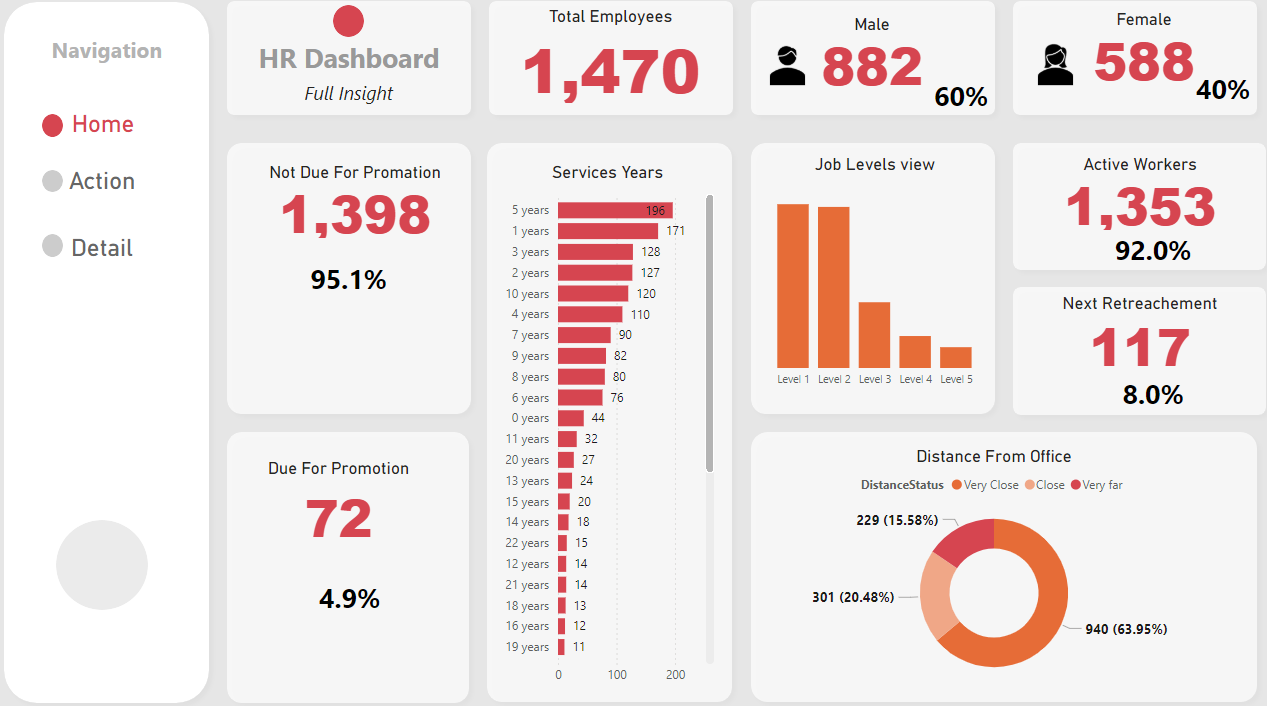

The page's visual inventory and layout, read from the dashboard file:
{"tool":"powerbi","page":{"name":"Home","canvas":[1280,720],"ordinal":0},"visuals":[{"type":"shape","box":[223,0,262,132],"z":0},{"type":"shape","box":[0,0.9,223,719],"z":0,"group":"g1"},{"type":"shape","box":[485,0,262,132],"z":1000},{"type":"shape","box":[747,0,262,132],"z":2000},{"type":"shape","box":[1009,0,262,132],"z":3000},{"type":"shape","box":[483,142,263,577],"z":4000},{"type":"shape","box":[223.4,141.9,261.6,289.1],"z":5000},{"type":"shape","box":[222.6,430.9,260.7,289.1],"z":6000},{"type":"shape","box":[747,142,262,289],"z":7000},{"type":"shape","box":[1009,142,271,145],"z":8000},{"type":"shape","box":[746.7,431.1,524.4,287.8],"z":9000},{"type":"textbox","box":[223,42,262,48],"z":10000},{"type":"textbox","box":[282,83,143,38],"z":11000},{"type":"shape","box":[338,13,31,32],"z":12000},{"type":"group","id":"g1","title":"Group 2","box":[0,0.9,222.6,719.1],"z":13000},{"type":"textbox","box":[13,37.9,198,38],"z":13501,"group":"g1"},{"type":"card","title":"Male","fields":{"Values":["All Measures.Male"]},"box":[802.2,22.2,150,80],"z":14000},{"type":"card","title":"Female","fields":{"Values":["All Measures.Female"]},"box":[1061.1,16.7,175.6,81.1],"z":15000},{"type":"card","fields":{"Values":["All Measures.% Male"]},"box":[933.3,83.3,65.6,42.2],"z":16000},{"type":"card","fields":{"Values":["All Measures.% Female"]},"box":[1195.6,78.9,64.4,36.7],"z":17000},{"type":"card","title":"Total Employees","fields":{"Values":["All Measures.Total Emp"]},"box":[507.8,14.4,215.6,101.1],"z":18000},{"type":"image","box":[761.1,41.1,63.3,65.6],"z":19000},{"type":"image","box":[1028.9,41.1,63.3,65.6],"z":20000},{"type":"card","title":"Not Due For Promation","fields":{"Values":["All Measures.Not Due"]},"box":[240,170,240,81],"z":21000},{"type":"card","title":"Due For Promotion","fields":{"Values":["All Measures.Due For Promotion"]},"box":[240.3,465.5,206.6,97.5],"z":22000},{"type":"card","fields":{"Values":["All Measures.% Not Due"]},"box":[295.3,267.8,117,39.9],"z":23000},{"type":"card","fields":{"Values":["All Measures.% Due For Promotion"]},"box":[287.3,583.4,134.8,47],"z":24000},{"type":"barChart","title":" Services Years","fields":{"Category":["HR Analytics Data.ServiceYear"],"Y":["All Measures.Total Emp"]},"box":[501,170.2,222.6,531.1],"z":25000},{"type":"shape","box":[1009,286,271,146],"z":26000},{"type":"columnChart","title":"Job Levels view","fields":{"Y":["All Measures.Total Emp"],"Category":["HR Analytics Data.JobLevels"]},"box":[760.8,162.3,238.5,243],"z":27000},{"type":"card","title":"Next Retreachement","fields":{"Values":["All Measures.WillBeRetrenchment"]},"box":[1019,301,252,85],"z":28000},{"type":"card","fields":{"Values":["All Measures.% Will Be Rterenchment"]},"box":[1097,386,122,34],"z":29000},{"type":"card","title":"Active Workers","fields":{"Values":["All Measures.On Services"]},"box":[1019,162,252,81],"z":30000},{"type":"card","fields":{"Values":["All Measures.% On Services"]},"box":[1103,243,110,32],"z":31000},{"type":"donutChart","title":"Distance From Office","fields":{"Category":["HR Analytics Data.DistanceStatus"],"Y":["All Measures.Total Emp"]},"box":[761,454,476,247],"z":32000},{"type":"actionButton","title":"Home","box":[37.5,117.9,140.1,30.2],"z":33000},{"type":"actionButton","title":"Action","box":[37.4,174.9,139.8,56.7],"z":34000},{"type":"actionButton","title":"Detail","box":[37.4,242.1,139.8,58],"z":35000},{"type":"shape","box":[46.7,122.1,21.1,22.4],"z":36000},{"type":"shape","box":[46.7,177.5,21.1,22.4],"z":37000},{"type":"shape","box":[46.7,242.1,21.1,22.4],"z":38000},{"type":"shape","box":[61.2,528.3,92.3,89.7],"z":39000}]}

Visuals, with their boxes in screenshot pixels (x1, y1, x2, y2), scaled from the page's 1280x720 canvas onto the 1267x706 screenshot:
shape: [left=221, top=0, right=480, bottom=129]
shape: [left=0, top=1, right=221, bottom=705]
shape: [left=480, top=0, right=739, bottom=129]
shape: [left=739, top=0, right=999, bottom=129]
shape: [left=999, top=0, right=1258, bottom=129]
shape: [left=478, top=139, right=738, bottom=705]
shape: [left=221, top=139, right=480, bottom=423]
shape: [left=220, top=423, right=478, bottom=705]
shape: [left=739, top=139, right=999, bottom=423]
shape: [left=999, top=139, right=1266, bottom=281]
shape: [left=739, top=423, right=1258, bottom=705]
textbox: [left=221, top=41, right=480, bottom=88]
textbox: [left=279, top=81, right=421, bottom=119]
shape: [left=335, top=13, right=365, bottom=44]
"Group 2" group: [left=0, top=1, right=220, bottom=705]
textbox: [left=13, top=37, right=209, bottom=74]
"Male" card: [left=794, top=22, right=943, bottom=100]
"Female" card: [left=1050, top=16, right=1224, bottom=96]
card - All Measures.% Male: [left=924, top=82, right=989, bottom=123]
card - All Measures.% Female: [left=1183, top=77, right=1247, bottom=113]
"Total Employees" card: [left=503, top=14, right=716, bottom=113]
image: [left=753, top=40, right=816, bottom=105]
image: [left=1018, top=40, right=1081, bottom=105]
"Not Due For Promation" card: [left=238, top=167, right=475, bottom=246]
"Due For Promotion" card: [left=238, top=456, right=442, bottom=552]
card - All Measures.% Not Due: [left=292, top=263, right=408, bottom=302]
card - All Measures.% Due For Promotion: [left=284, top=572, right=418, bottom=618]
" Services Years" barChart: [left=496, top=167, right=716, bottom=688]
shape: [left=999, top=280, right=1266, bottom=424]
"Job Levels view" columnChart: [left=753, top=159, right=989, bottom=397]
"Next Retreachement" card: [left=1009, top=295, right=1258, bottom=378]
card - All Measures.% Will Be Rterenchment: [left=1086, top=378, right=1207, bottom=412]
"Active Workers" card: [left=1009, top=159, right=1258, bottom=238]
card - All Measures.% On Services: [left=1092, top=238, right=1201, bottom=270]
"Distance From Office" donutChart: [left=753, top=445, right=1224, bottom=687]
"Home" actionButton: [left=37, top=116, right=176, bottom=145]
"Action" actionButton: [left=37, top=171, right=175, bottom=227]
"Detail" actionButton: [left=37, top=237, right=175, bottom=294]
shape: [left=46, top=120, right=67, bottom=142]
shape: [left=46, top=174, right=67, bottom=196]
shape: [left=46, top=237, right=67, bottom=259]
shape: [left=61, top=518, right=152, bottom=606]
